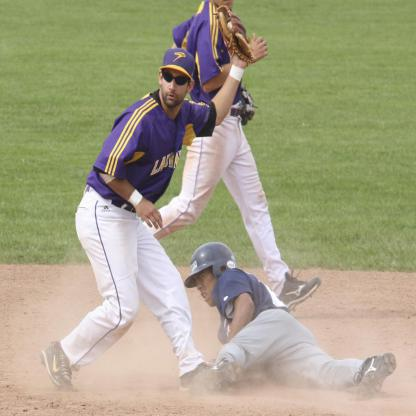face: (161, 68, 189, 107), (196, 270, 221, 306)
